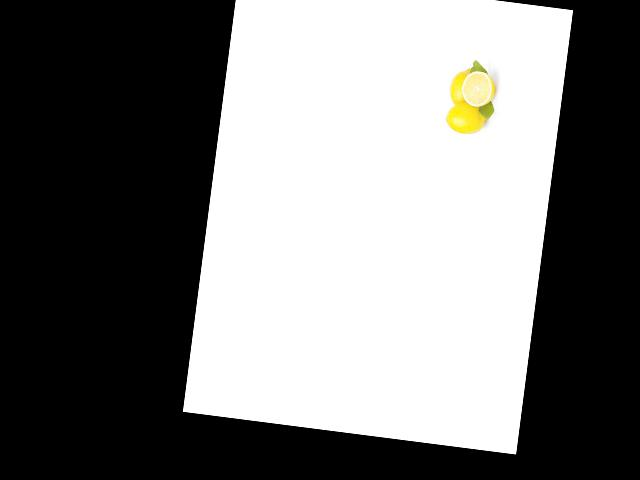lemon: (445, 63, 475, 105)
